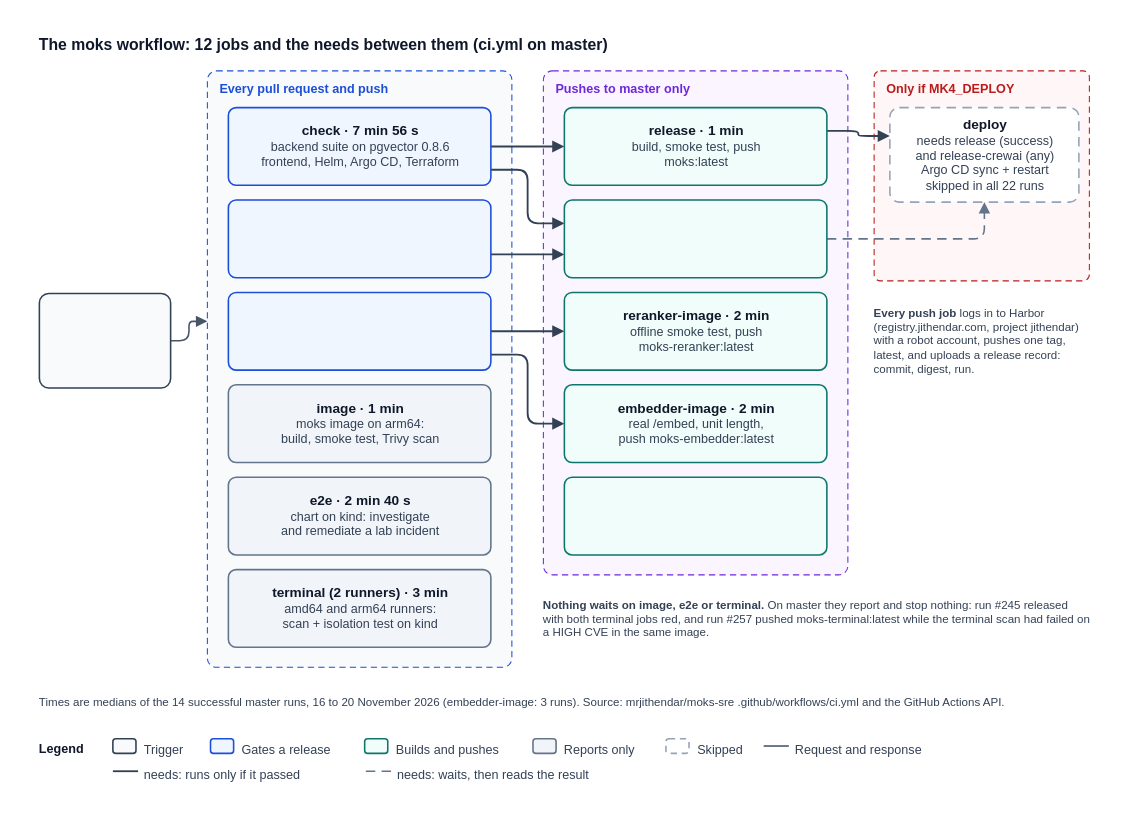
Image size: 1128x834. Some labels were removed from this diagram. The shapes that lost their labels are listed below. From the top down, each one's centre as x and y in pixels, then its label:
At point (359, 238): "crewai · 7 min 2 s the backend suite again on the CrewAI dependency set".
At point (695, 238): "release-crewai · 2 min MOKS_CREWAI=true build, push moks-crewai:latest".
At point (104, 340): "Trigger push to master pull request manual run".
At point (359, 330): "reranker · 1 min reranker service tests (also covers the embedder)".
At point (695, 515): "terminal-image · 2 min needs nothing: arm64 + amd64, push moks-terminal:latest".
